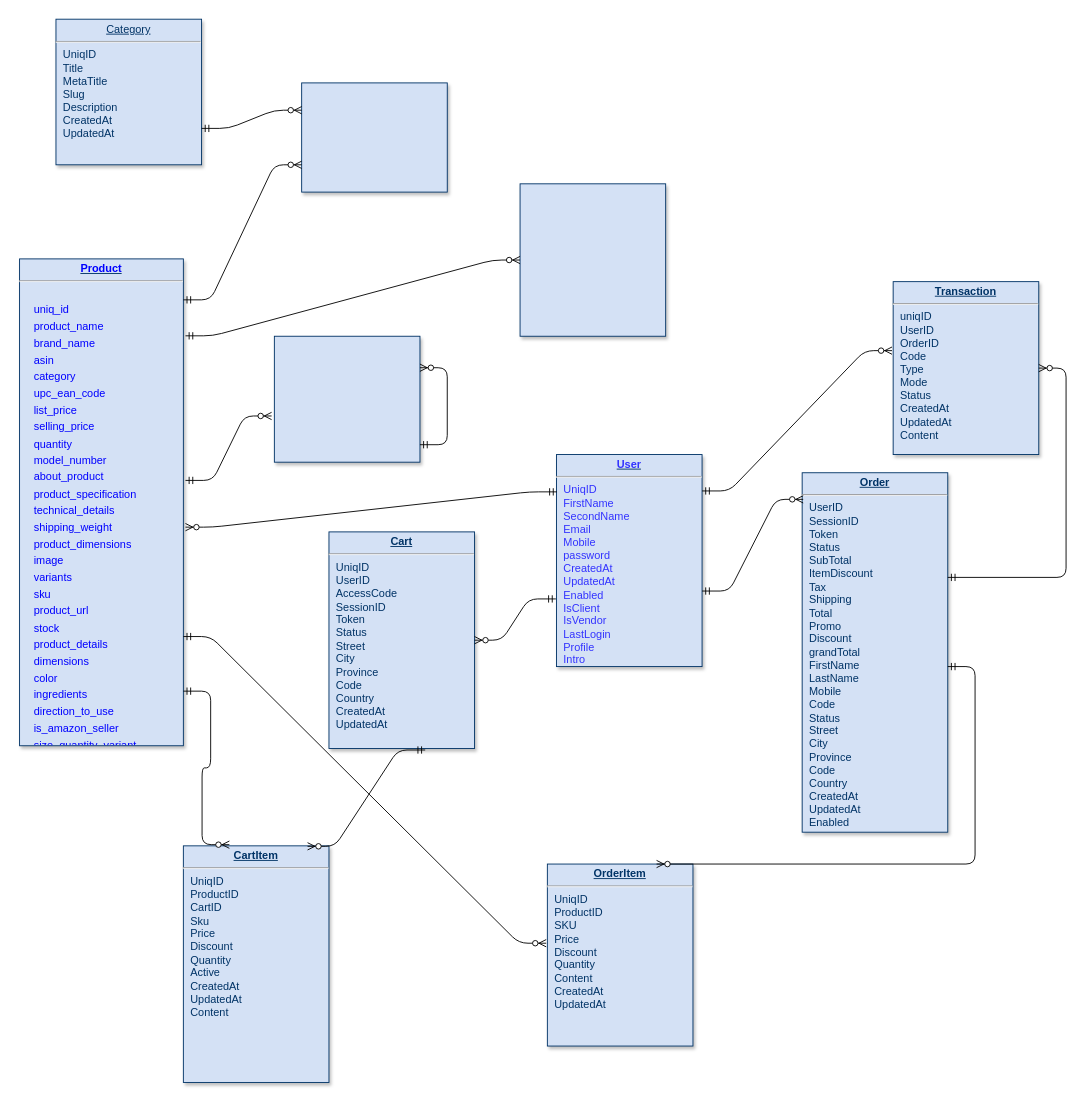
Some shapes in this 1090 by 1106 pixel diagram are drawn without their labels. The centre of each missing label's shape, as x and y in pixels:
NewProductSlider UniqID Title Text Description CreatedAt UpdatedAt Enabled: (593,261)
ProductCategory UniqID ProductId CategoryId CreatedAt UpdatedAt: (375,138)
ProductReview UniqID ProductID Title Rating Published CreatedAt UpdatedAt: (347,400)
